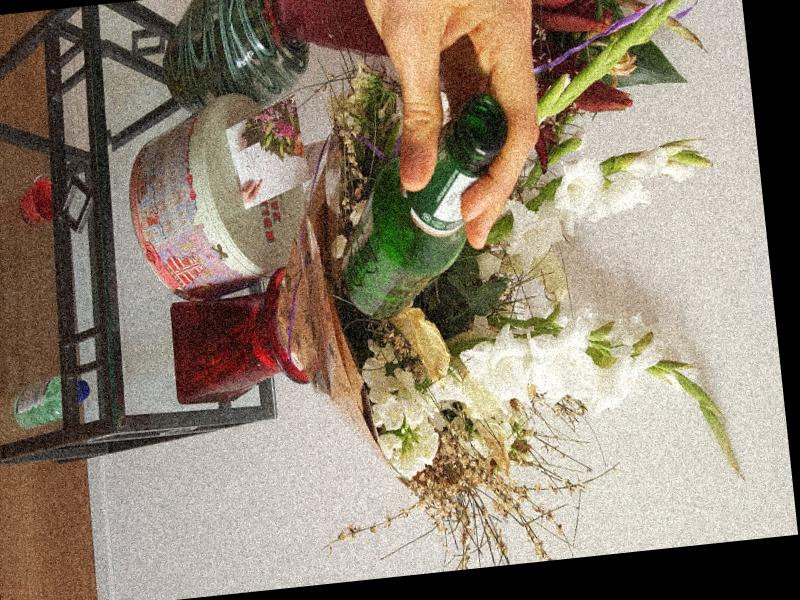Beer: (326, 95, 526, 321)
